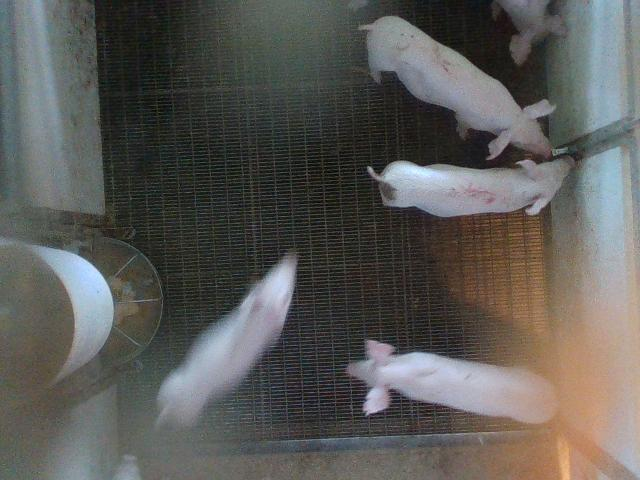pig-5: (368, 155, 575, 217)
